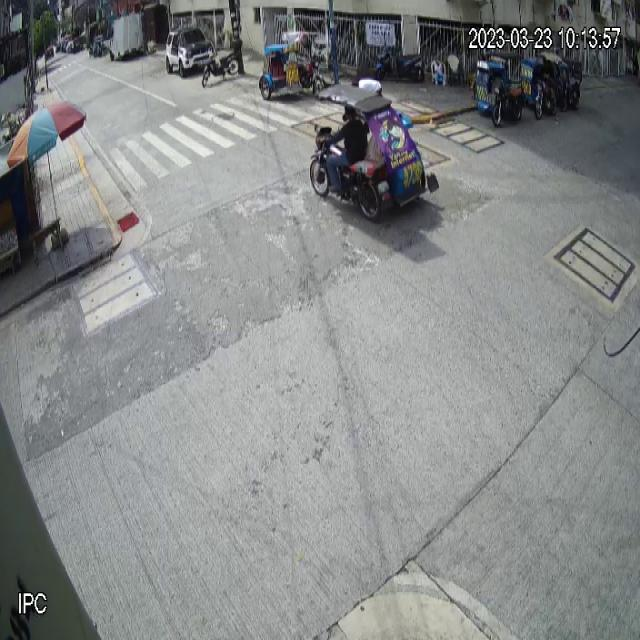Tricycle: (308, 85, 441, 222), (259, 30, 326, 104), (474, 51, 524, 128)
